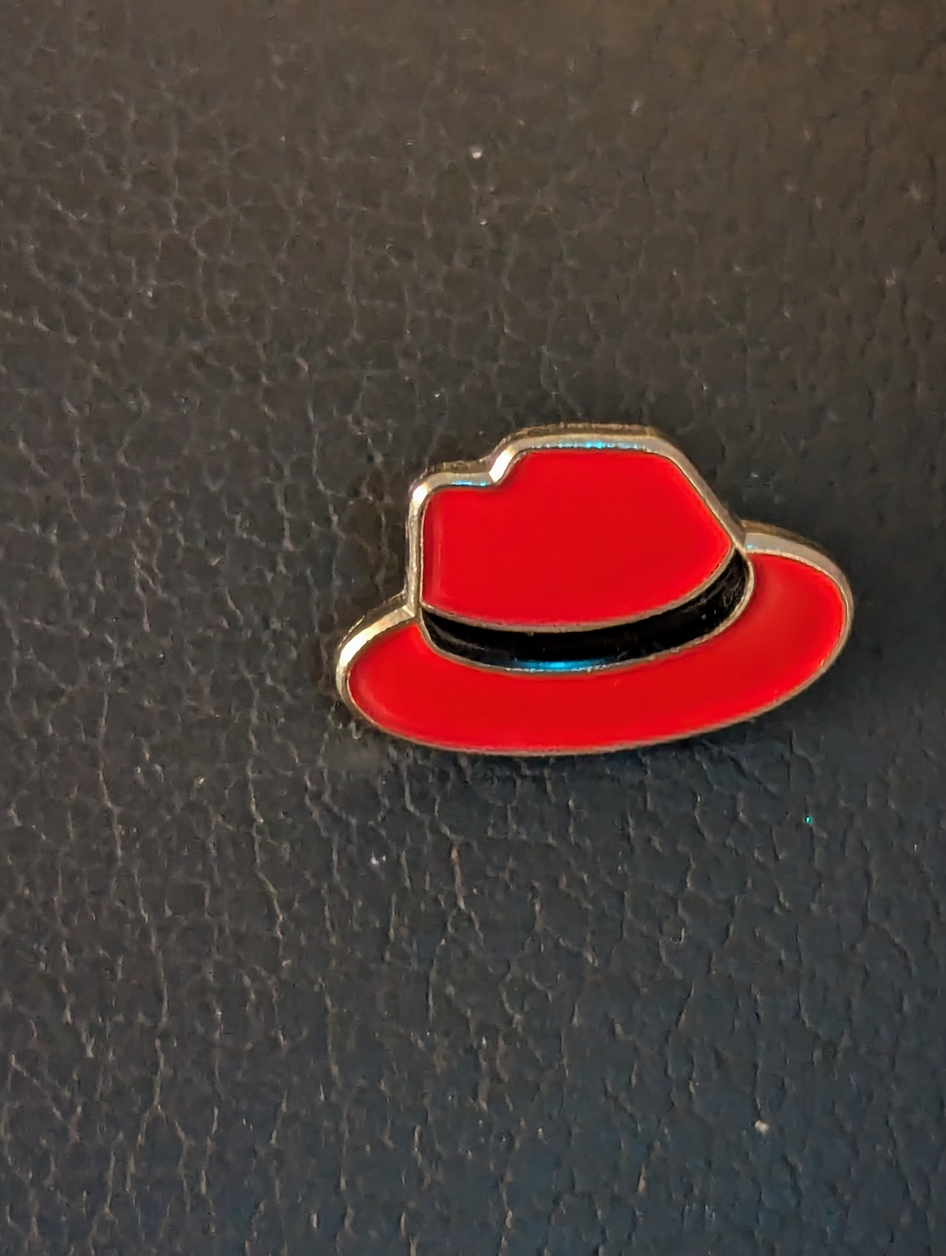Red-Hat: (209, 341, 946, 811)
